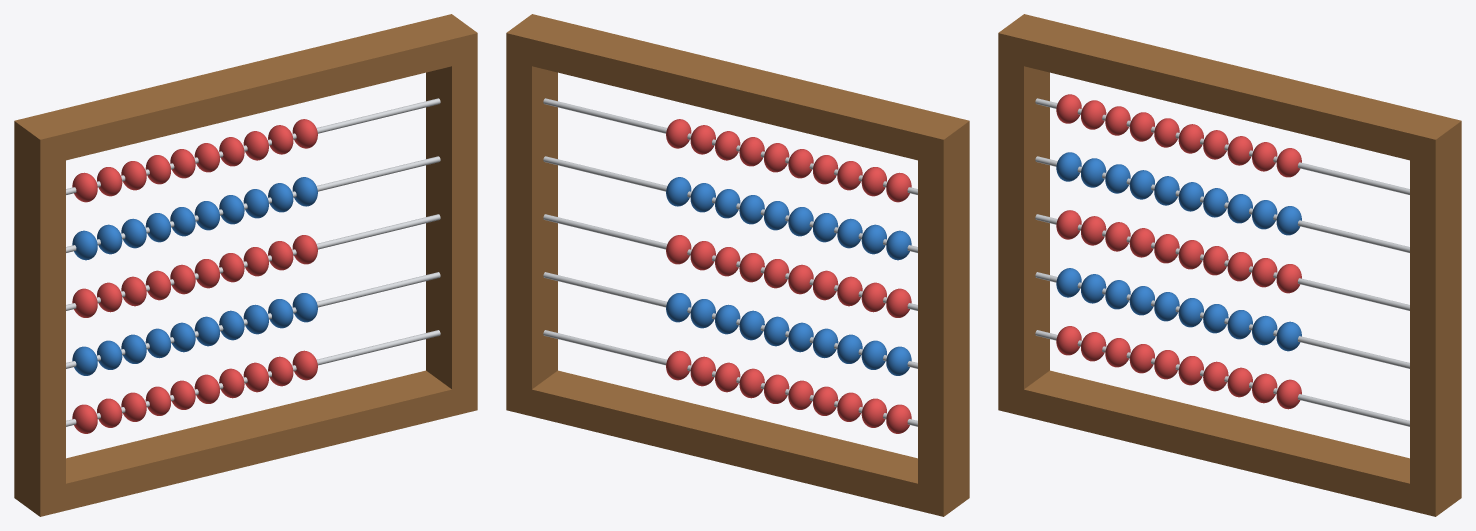
Rendered from math-abacus__model3d__counting-abacus.glb.
3 views of the same model, side by side, from view 1: azimuth 30°, elevation 25°; view 2: azimuth 150°, elevation 25°; view 3: azimuth 330°, elevation 25° (orthographic).
Parts seen in each view (by area): view 1: Cross frame 0.27, Cross frame 0.01, Side frame -0.16, Side frame 0.16, Rod 4, Rod 2, Rod 3, Rod 1, Rod 0, Row 2 bead 9, Row 1 bead 9, Row 3 bead 7 (+47 smaller); view 2: Cross frame 0.27, Cross frame 0.01, Side frame -0.16, Side frame 0.16, Rod 4, Rod 2, Rod 3, Rod 1, Rod 0, Row 2 bead 9, Row 1 bead 9, Row 3 bead 7 (+47 smaller); view 3: Cross frame 0.27, Cross frame 0.01, Side frame 0.16, Side frame -0.16, Rod 2, Rod 1, Rod 3, Rod 0, Rod 4, Row 2 bead 8, Row 3 bead 8, Row 1 bead 6 (+47 smaller).
Part boxes in pixels (bbox=[...]): Cross frame 0.27: bbox=[14, 14, 477, 166]; Cross frame 0.01: bbox=[14, 370, 477, 516]; Side frame -0.16: bbox=[14, 134, 65, 503]; Side frame 0.16: bbox=[426, 46, 477, 402]; Rod 4: bbox=[66, 98, 440, 194]; Rod 2: bbox=[66, 214, 440, 310]; Rod 3: bbox=[66, 156, 440, 252]; Rod 1: bbox=[66, 272, 440, 368]; Rod 0: bbox=[66, 330, 440, 426]; Row 2 bead 9: bbox=[292, 235, 317, 264]; Row 1 bead 9: bbox=[292, 293, 317, 322]; Row 3 bead 7: bbox=[243, 189, 268, 218]; Cross frame 0.27: bbox=[506, 14, 969, 166]; Cross frame 0.01: bbox=[506, 370, 969, 516]; Side frame -0.16: bbox=[918, 134, 969, 503]; Side frame 0.16: bbox=[506, 47, 557, 402]; Rod 4: bbox=[543, 98, 917, 194]; Rod 2: bbox=[543, 214, 917, 310]; Rod 3: bbox=[543, 156, 917, 252]; Rod 1: bbox=[543, 272, 917, 368]; Rod 0: bbox=[543, 330, 917, 426]; Row 2 bead 9: bbox=[666, 235, 691, 264]; Row 1 bead 9: bbox=[666, 293, 691, 322]; Row 3 bead 7: bbox=[715, 189, 740, 218]; Cross frame 0.27: bbox=[998, 14, 1461, 166]; Cross frame 0.01: bbox=[998, 370, 1461, 516]; Side frame 0.16: bbox=[1410, 134, 1461, 503]; Side frame -0.16: bbox=[998, 47, 1049, 402]; Rod 2: bbox=[1035, 214, 1409, 310]; Rod 1: bbox=[1035, 272, 1409, 368]; Rod 3: bbox=[1035, 156, 1409, 252]; Rod 0: bbox=[1035, 330, 1409, 426]; Rod 4: bbox=[1035, 98, 1409, 194]; Row 2 bead 8: bbox=[1252, 258, 1277, 287]; Row 3 bead 8: bbox=[1252, 200, 1277, 229]; Row 1 bead 6: bbox=[1203, 304, 1228, 333].
Bounding box in the file's own units: 0.34 × 0.28 × 0.035.
